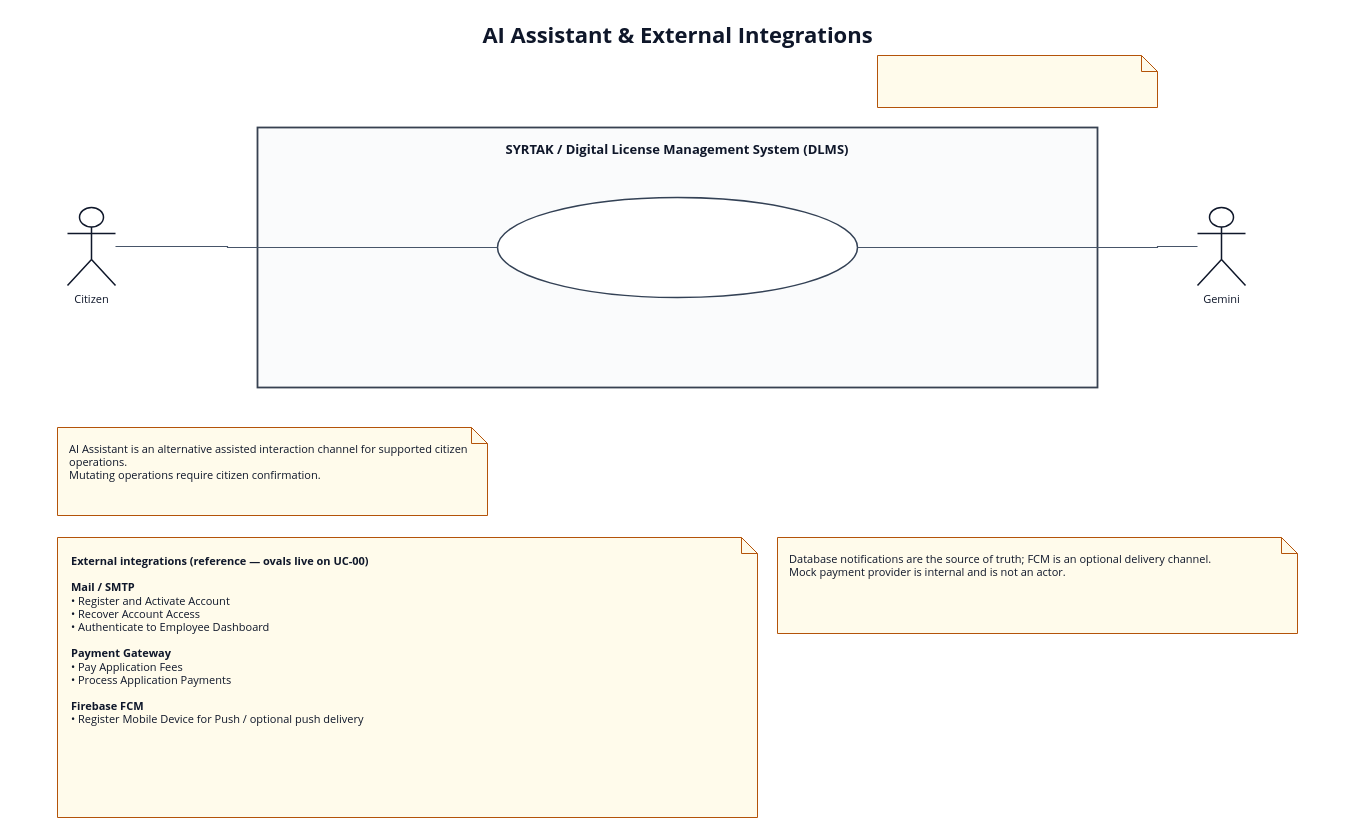
Image size: 1354x835. Some labels were removed from this diagram. The centre of each missing label's shape, as x and y in pixels:
"Files are never sent to Gemini." goes at point 1017,81.
"UC-CIT-19 Use AI Assistant" goes at point 677,247.
